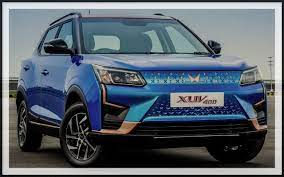XUV 400: (15, 11, 268, 169)
